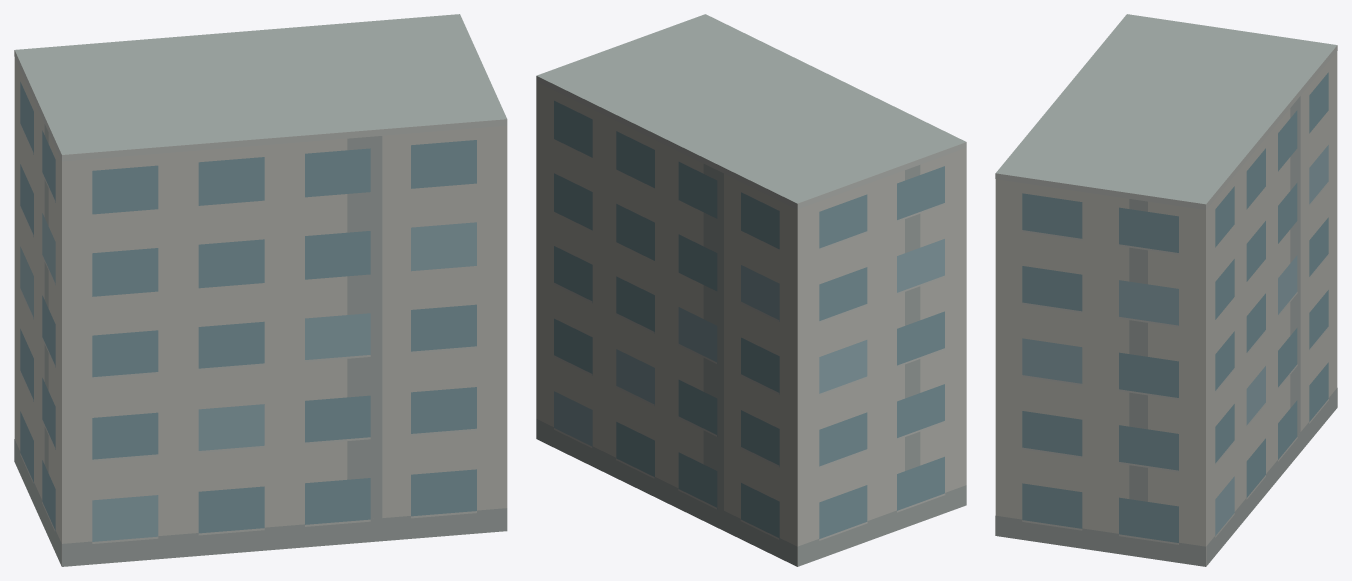
Rendered from residential-47d854a1-2b6e-4af1-882e-aa0344dcde65.glb.
3 views of the same model, side by side, from view 1: azimuth 30°, elevation 25°; view 2: azimuth 150°, elevation 25°; view 3: azimuth 270°, elevation 25° (orthographic). The views are drawn at different scales.
Visible parts, largest first — view 1: residential-47d854a1-2b6e-4af1-882e-aa0344dcde65.tmp; view 2: residential-47d854a1-2b6e-4af1-882e-aa0344dcde65.tmp; view 3: residential-47d854a1-2b6e-4af1-882e-aa0344dcde65.tmp.
Boxes of the visible parts, x1,y1,x2,y2 form: residential-47d854a1-2b6e-4af1-882e-aa0344dcde65.tmp: [14, 14, 507, 566]; residential-47d854a1-2b6e-4af1-882e-aa0344dcde65.tmp: [536, 14, 966, 566]; residential-47d854a1-2b6e-4af1-882e-aa0344dcde65.tmp: [995, 14, 1337, 566].
Bounding box in the file's own units: 17.18 × 15.25 × 13.05.
